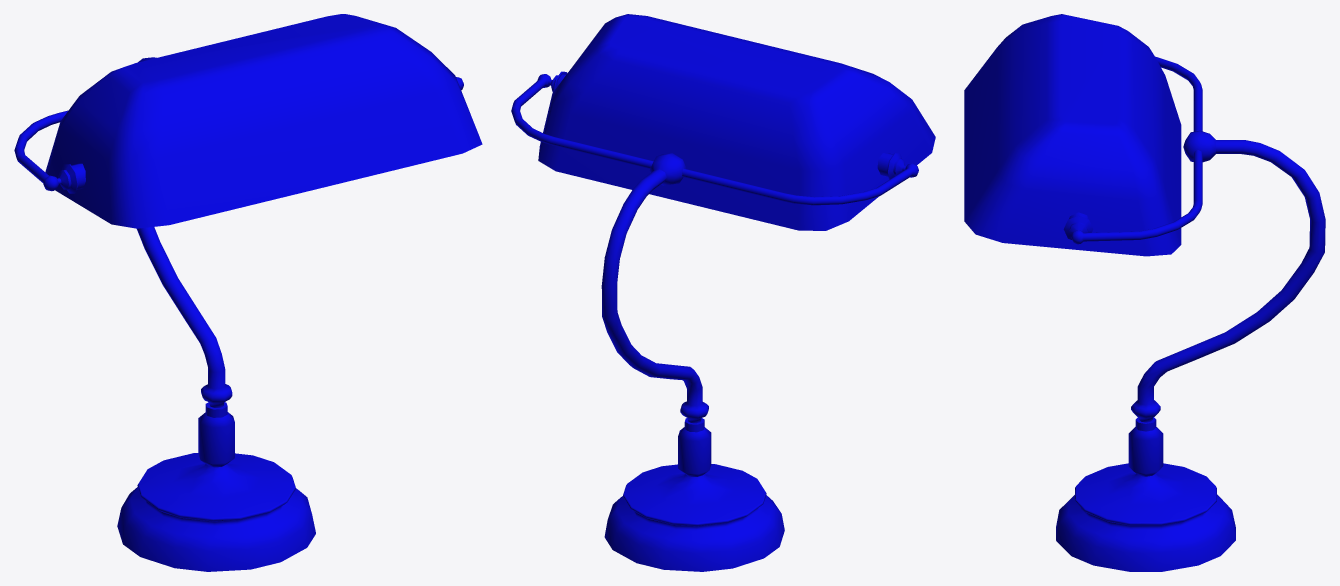
File: lamp2.fbx
3 renders of one model, left to right at view 1: azimuth 30°, elevation 25°; view 2: azimuth 150°, elevation 25°; view 3: azimuth 270°, elevation 25°, orthographic. The views are drawn at different scales.
Parts seen in each view (by area): view 1: lamp2; view 2: lamp2; view 3: lamp2.
Part boxes in pixels (bbox=[...]): lamp2: bbox=[14, 14, 482, 571]; lamp2: bbox=[511, 14, 935, 571]; lamp2: bbox=[964, 14, 1325, 571].
Size of the model in its own units: 24.69 by 28.68 by 20.15.
